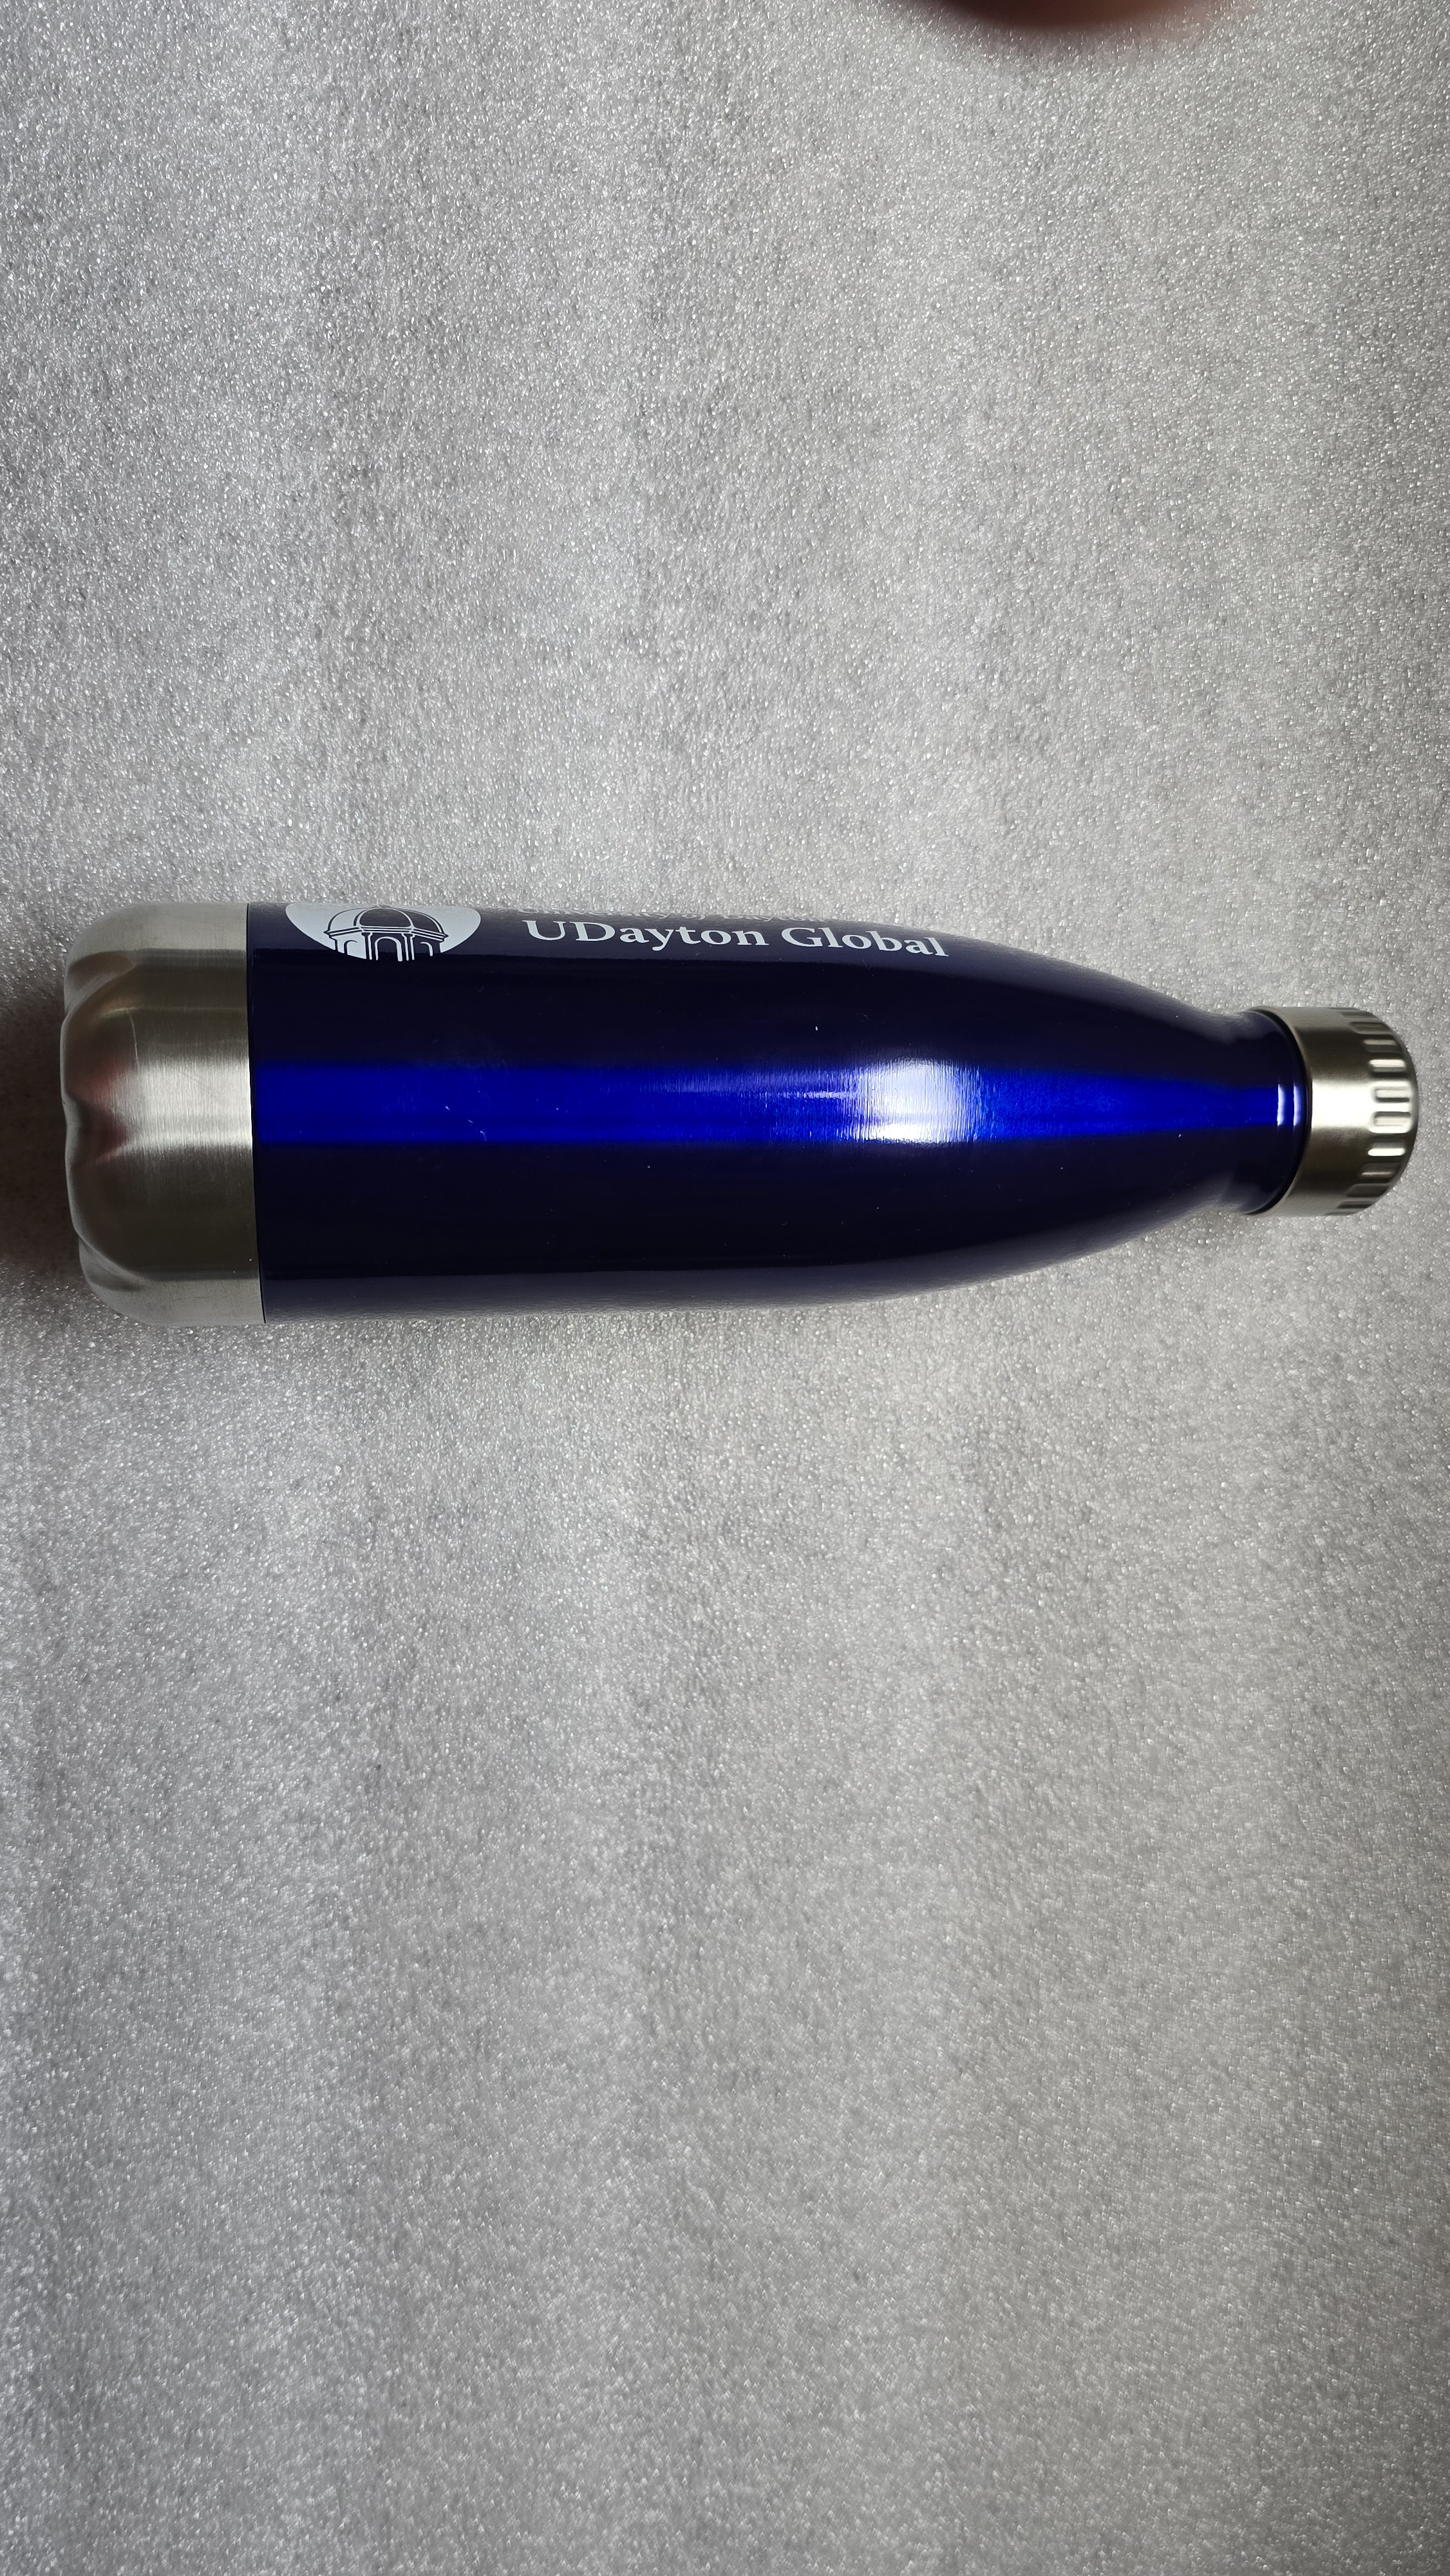bottle: (35, 846, 1431, 1362)
